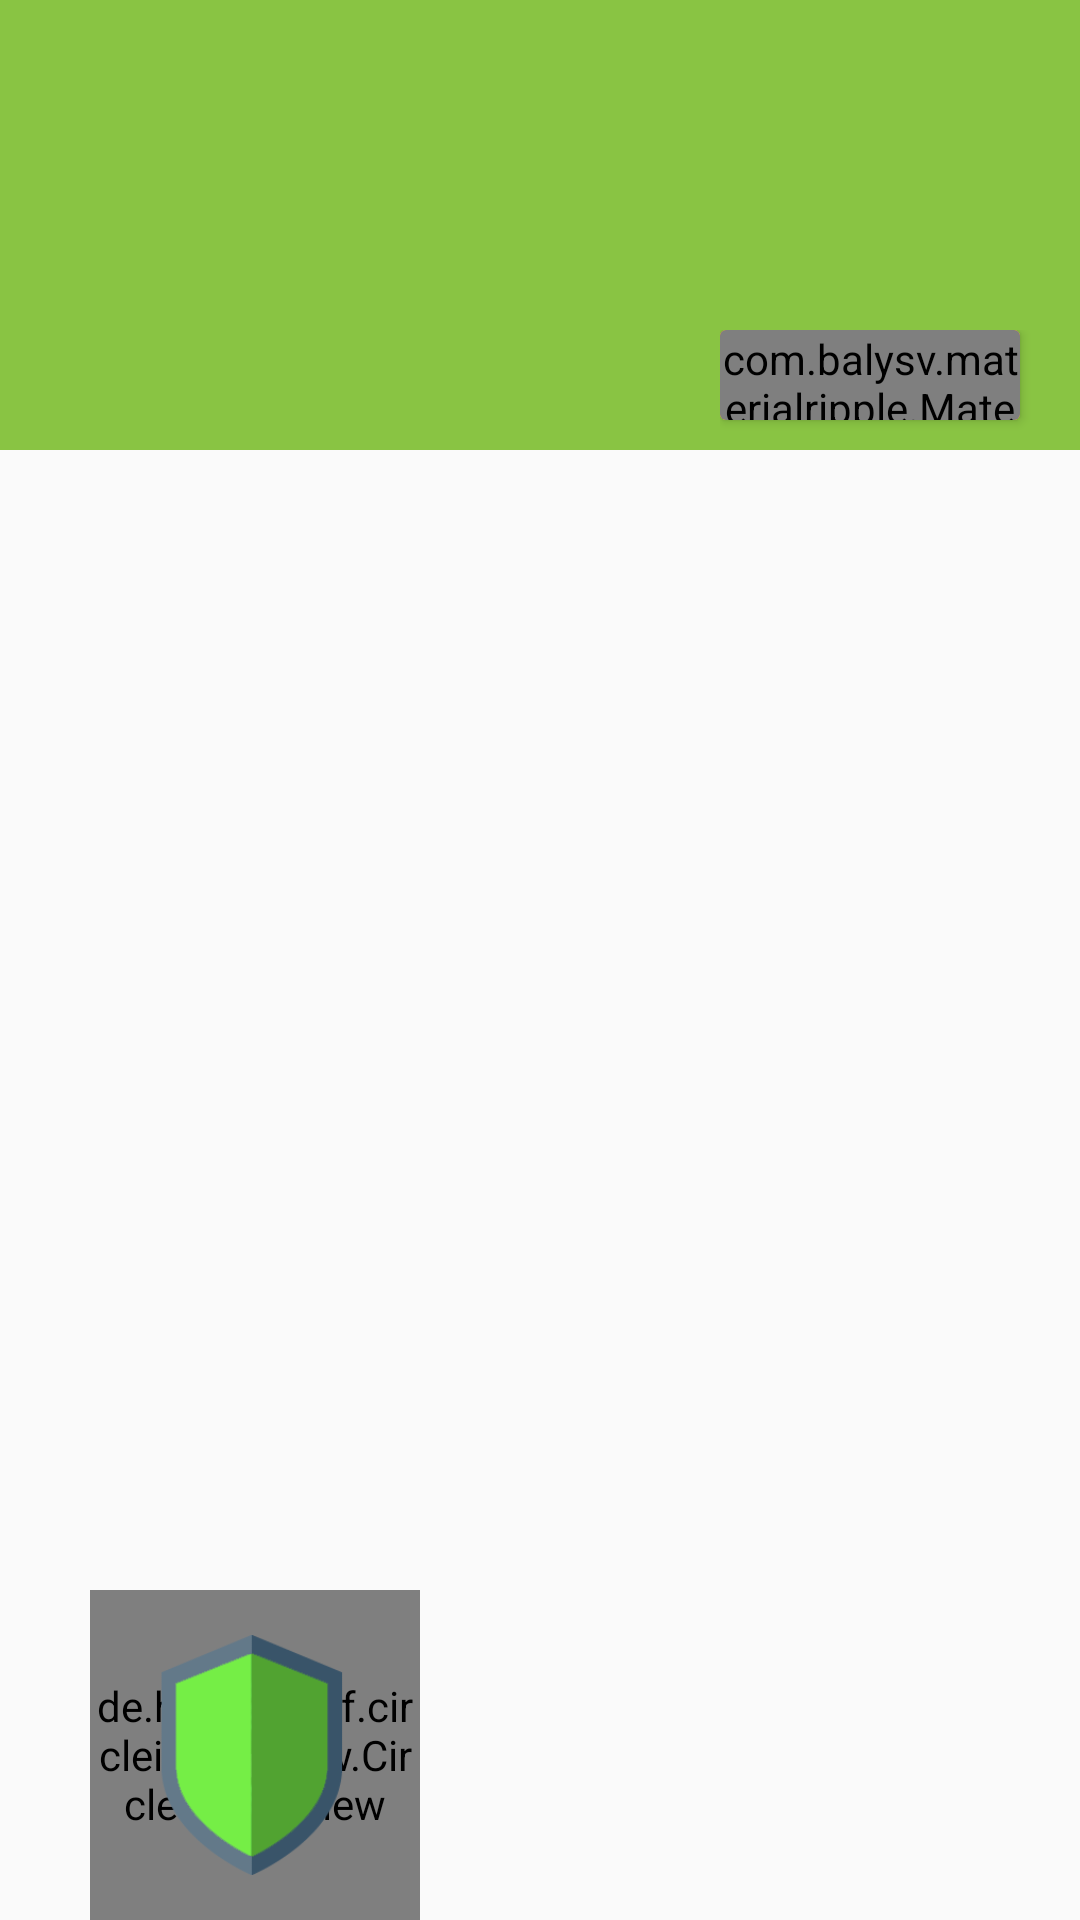

Icon click points for this 1080x1920 phone screenshot, format point (x, y):
escudo: point (249, 1755)
